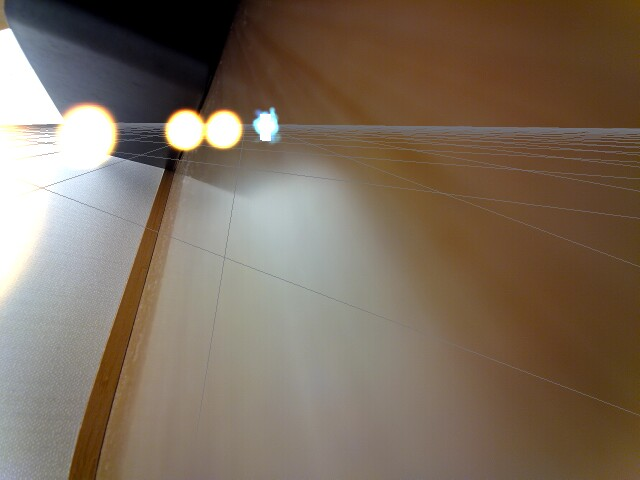fire: (1, 117, 45, 301), (53, 103, 118, 169), (164, 106, 205, 151), (204, 107, 244, 151)
